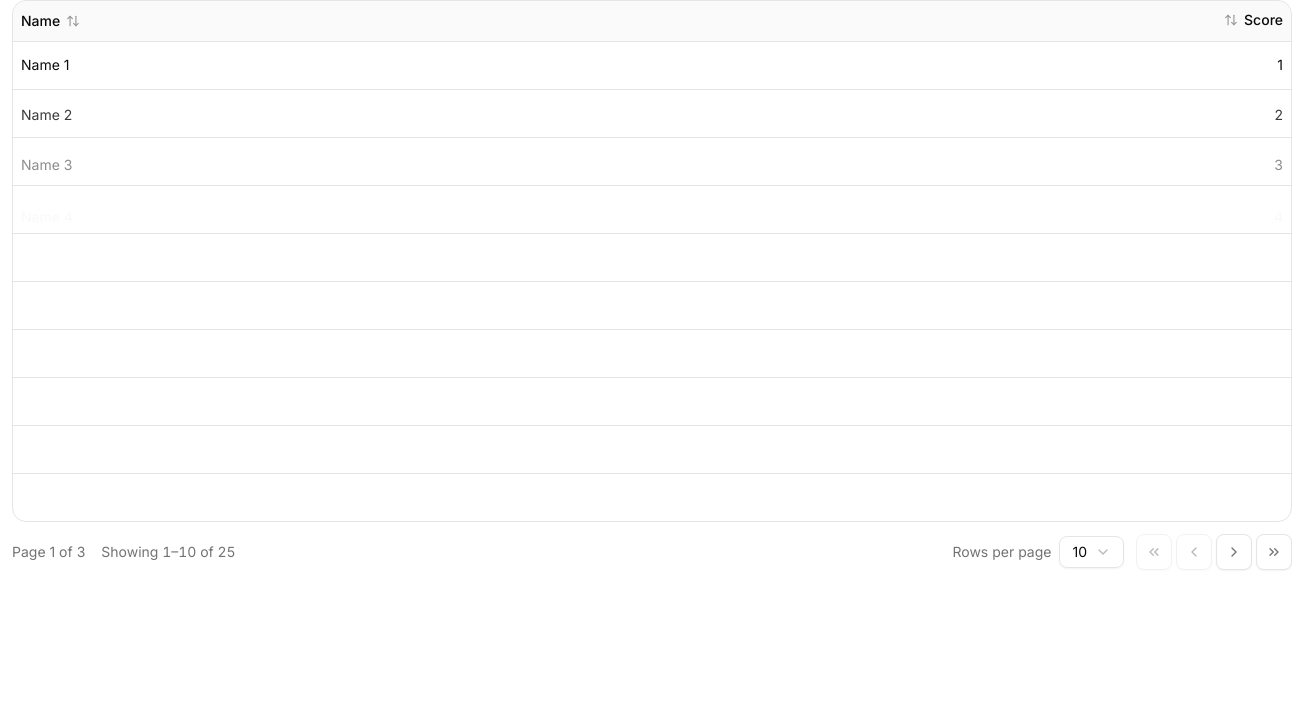
<DataTable /> — pager integration (usePagination) › pages forward and backward through the rows
The width and height of the screenshot is (1304, 720).
Click the button named "Next page" at (1234, 552), box left=1216, top=534, right=1252, bottom=570
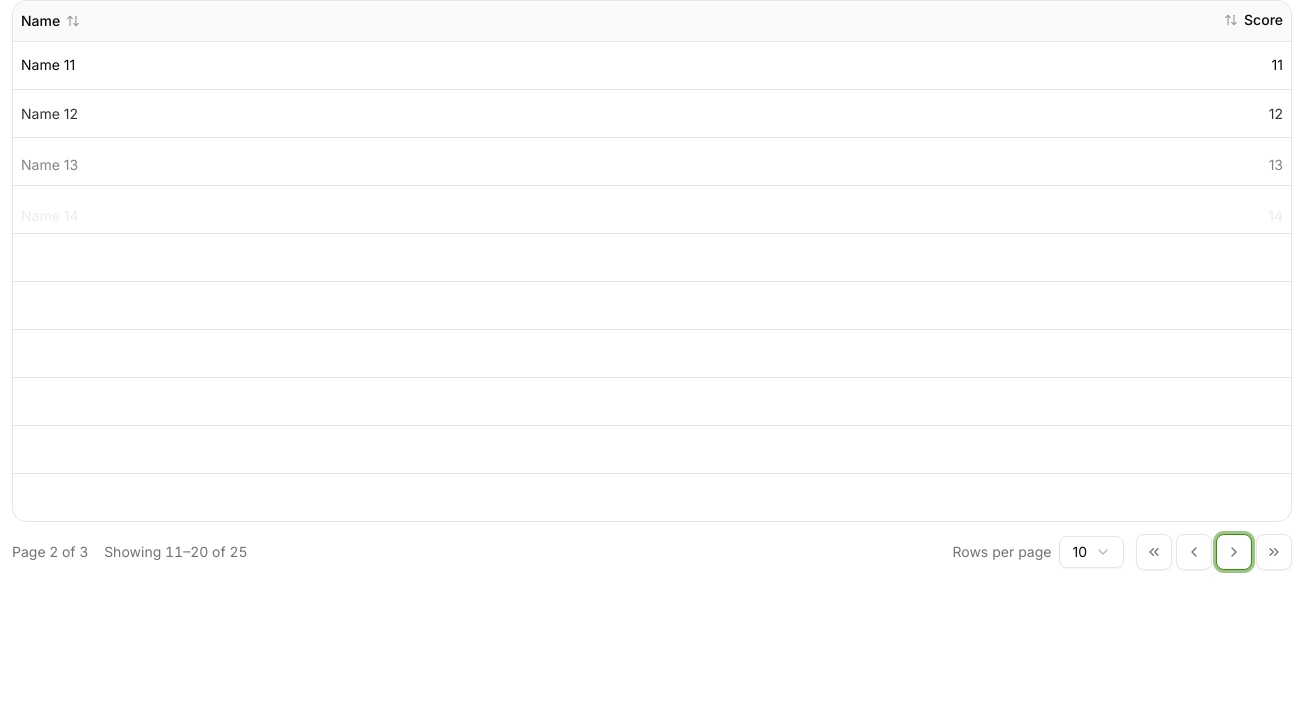
expect the cell "Name 11" is shown: met, box left=13, top=41, right=657, bottom=89
expect the text "Page 2 of 3" is shown: met, box left=12, top=542, right=88, bottom=562
Click the button named "Last page" at (1274, 552), box left=1256, top=534, right=1292, bottom=570
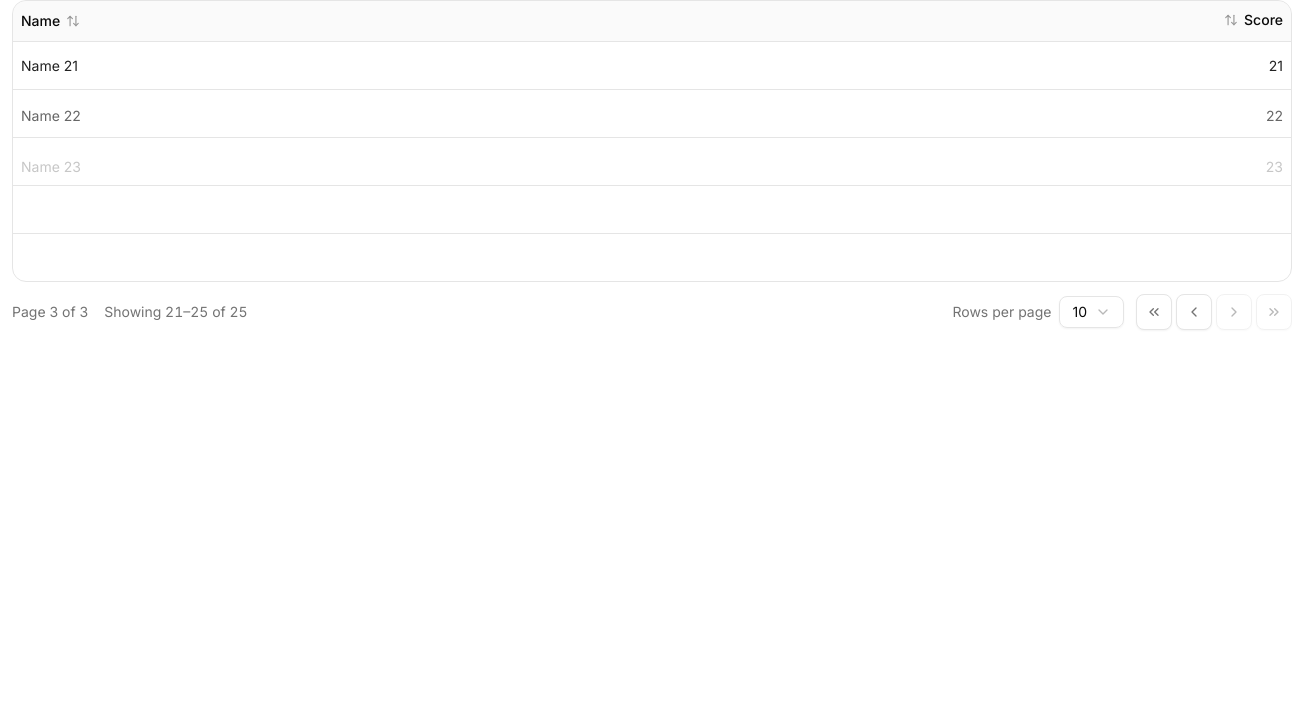
expect the text "Page 3 of 3" is shown: met, box left=12, top=302, right=88, bottom=322
Click the button named "First page" at (1154, 312), box left=1136, top=294, right=1172, bottom=330
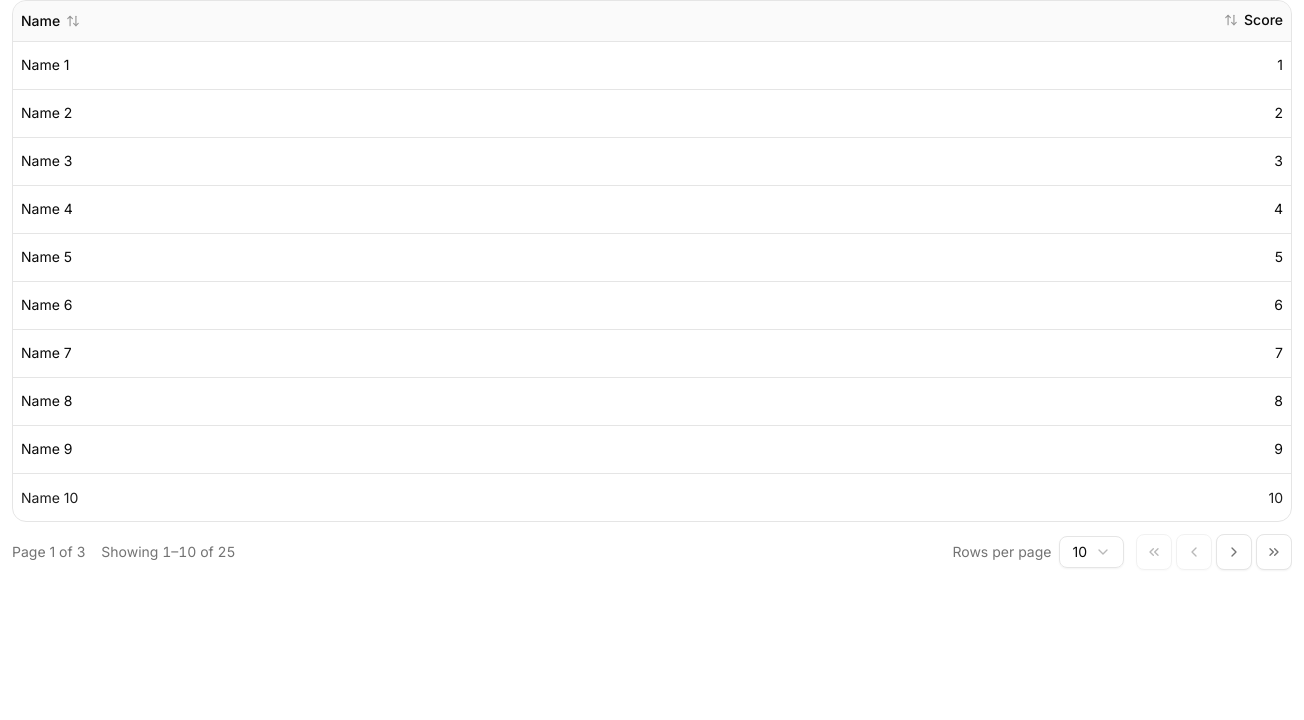
expect the cell "Name 1" is shown: met, box left=13, top=41, right=653, bottom=89
expect the text "Page 1 of 3" is shown: met, box left=12, top=542, right=85, bottom=562
